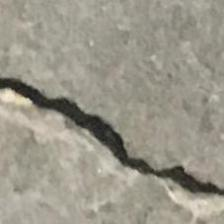Crack: (0, 68, 223, 224)
